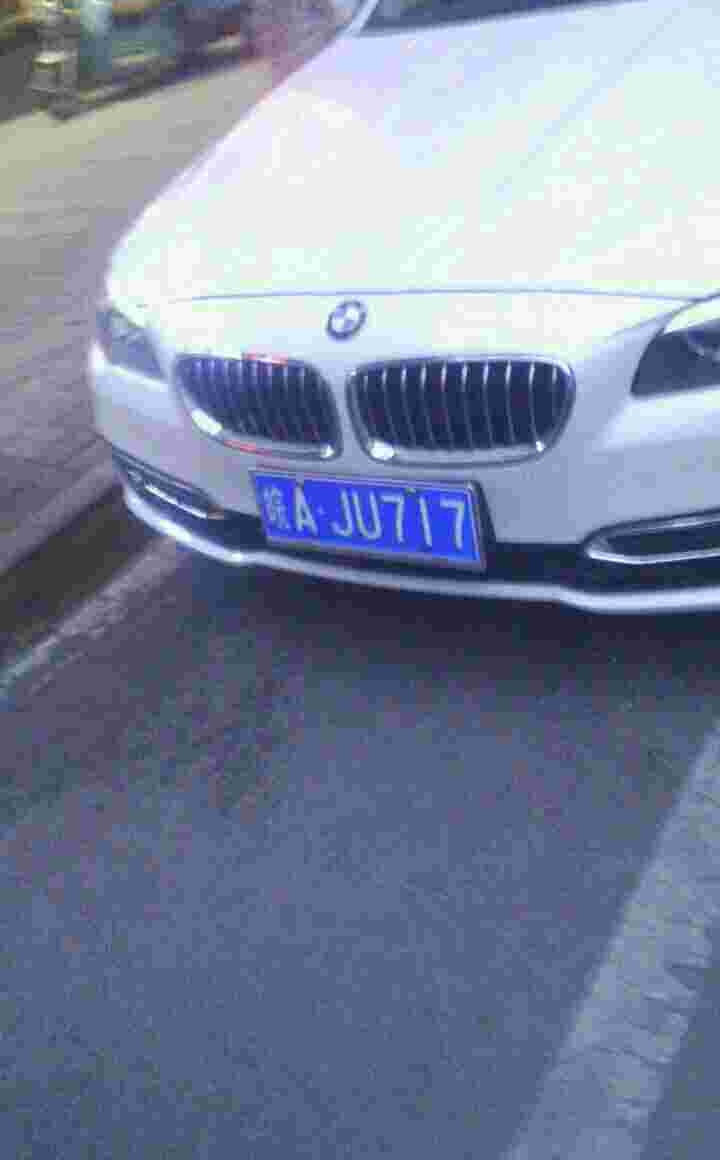license_plate: (258, 478, 490, 566)
